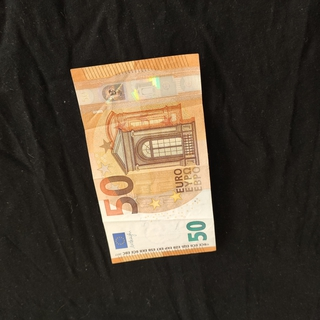50EUROFront: (68, 51, 217, 264)
